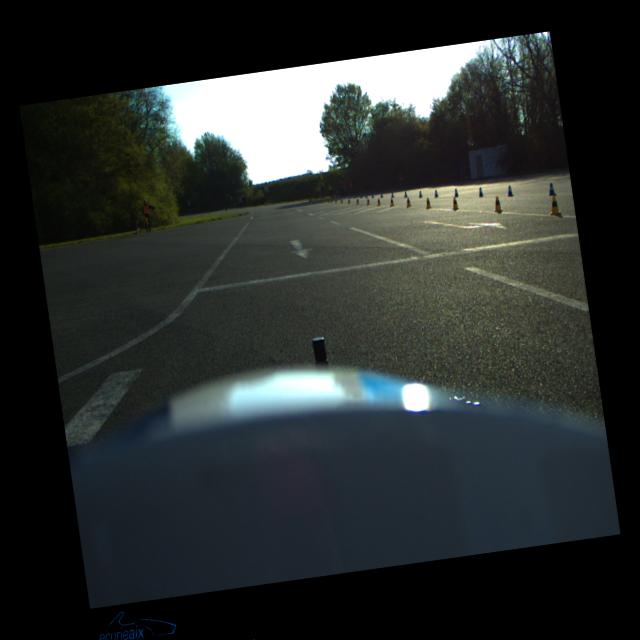blue_cone: (547, 182, 556, 195), (506, 185, 514, 197), (453, 188, 459, 198), (478, 187, 483, 197), (418, 191, 422, 198), (434, 190, 438, 197), (391, 192, 395, 198), (404, 192, 408, 198), (380, 192, 383, 198), (348, 194, 352, 198), (371, 193, 374, 198), (360, 194, 363, 198), (353, 194, 356, 198), (343, 194, 346, 198), (340, 194, 342, 199), (366, 194, 368, 198)
yellow_cone: (548, 195, 562, 216), (492, 195, 504, 212), (451, 197, 459, 210), (424, 197, 432, 209), (405, 198, 412, 208), (390, 198, 396, 206), (376, 198, 382, 206), (366, 198, 371, 205), (356, 198, 360, 204), (348, 199, 352, 204), (334, 198, 338, 203), (340, 198, 343, 204), (322, 199, 326, 203), (330, 198, 333, 203), (327, 198, 330, 203), (319, 198, 322, 202), (316, 198, 319, 202), (314, 198, 316, 202)
